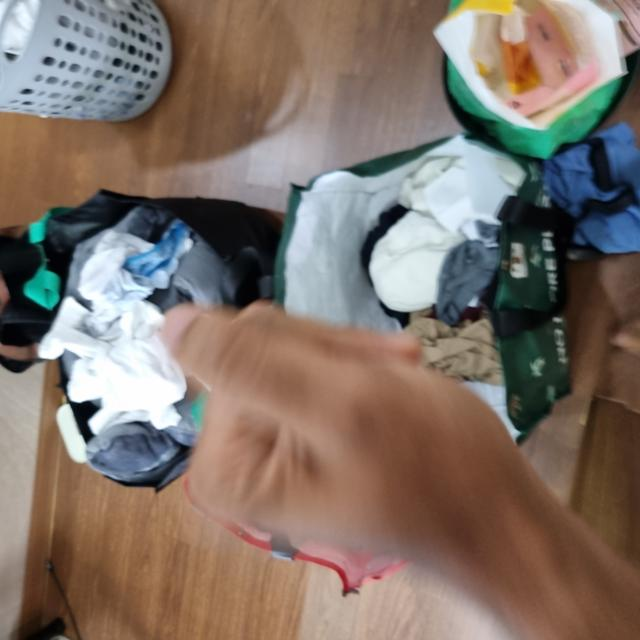Rock: (79, 161, 340, 517)
